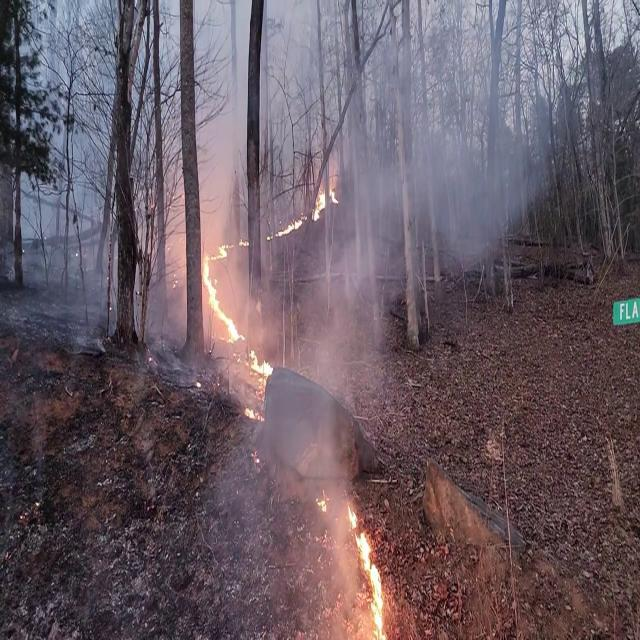Fire: (199, 235, 275, 391), (344, 501, 388, 638), (312, 179, 338, 218)
Smoke: (314, 13, 538, 290), (168, 0, 328, 253), (256, 255, 398, 502)
